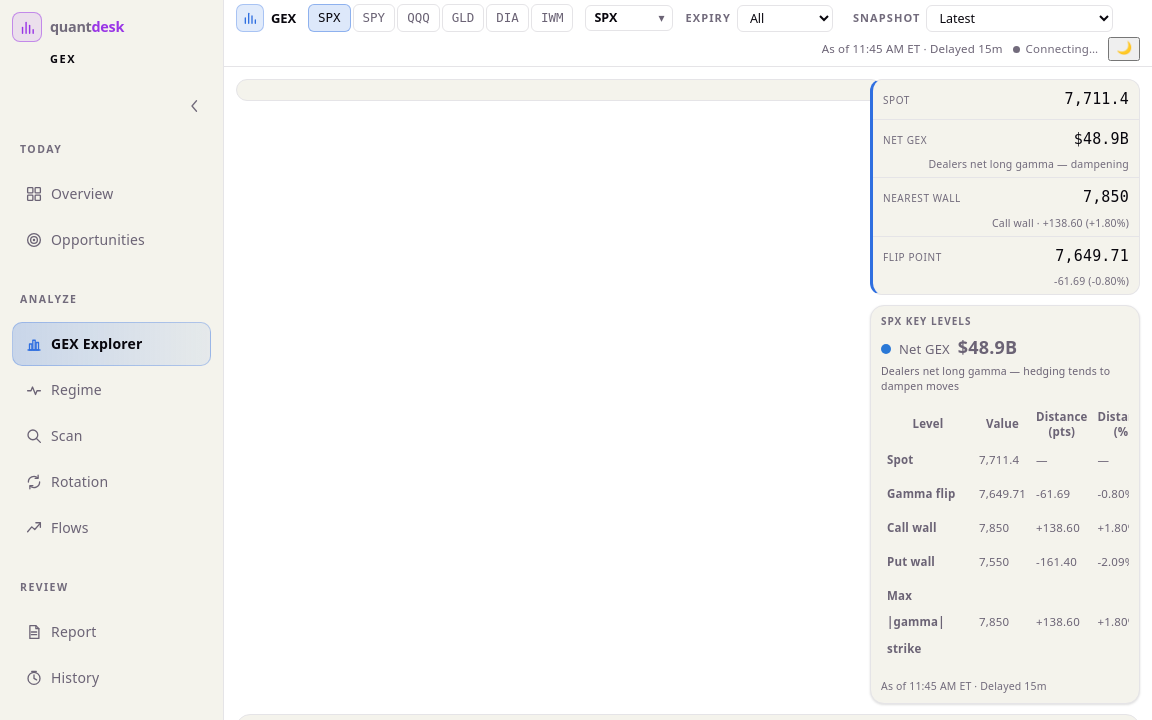
Test: T55 scan-family nav and stub routes › the ContextBar drops the asset dropdown on /scan and shows it again after navigating back to /dashboard
The image size is (1152, 720).
Expected: the heading "SPX key levels" is shown, x1=881 y1=314 x2=972 y2=328
Expected: the button named "Symbol SPX" is shown, x1=586 y1=5 x2=674 y2=31
Click the link "Scan". click: (54, 436)
box: x1=25 y1=426 x2=83 y2=445
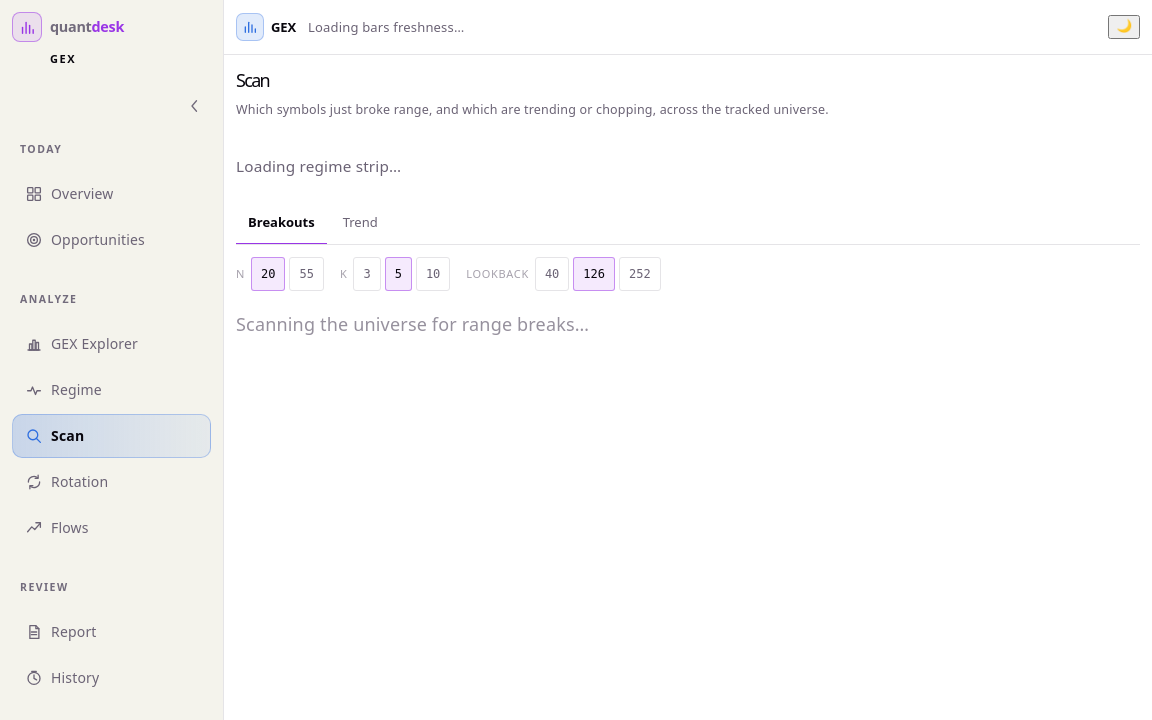
Expected: the button "Symbol SPX" is not shown
Expected: the element named "Scan view" is shown, x1=236 y1=201 x2=390 y2=245
Click the link "GEX Explorer". click: (82, 344)
box: x1=25 y1=334 x2=138 y2=353
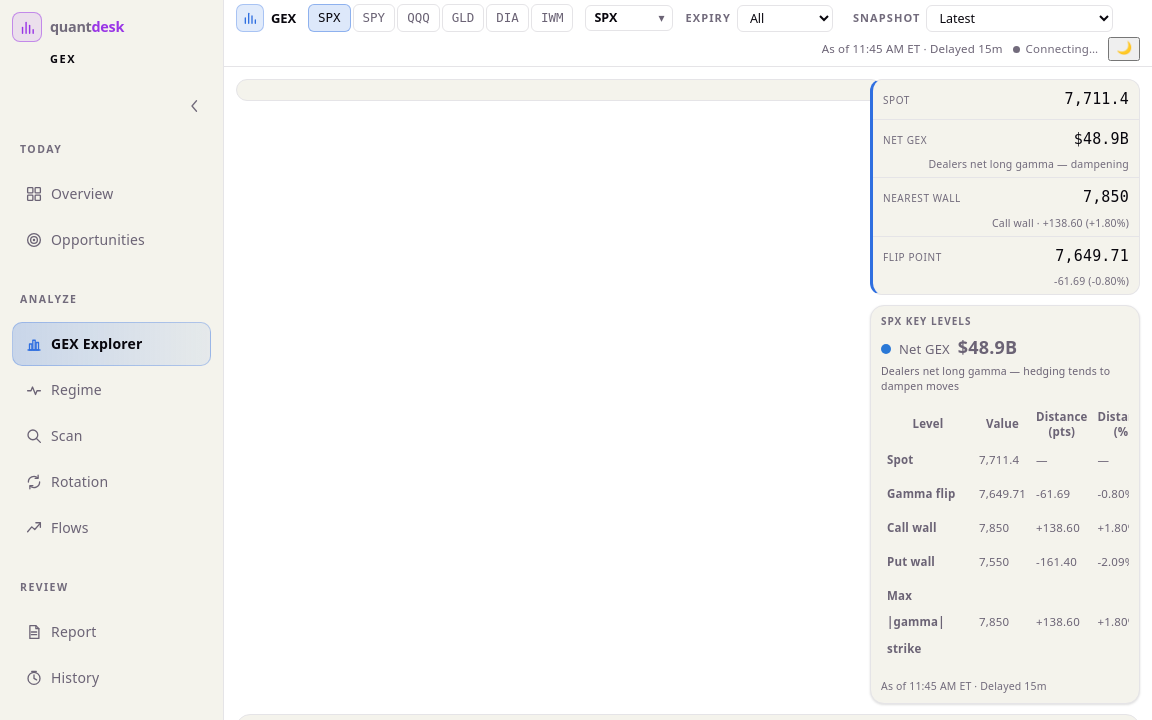
Expected: the button named "Symbol SPX" is shown, x1=586 y1=5 x2=674 y2=31
